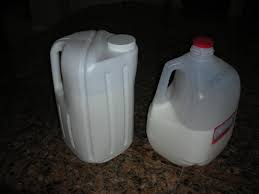milk: (155, 36, 241, 171)
